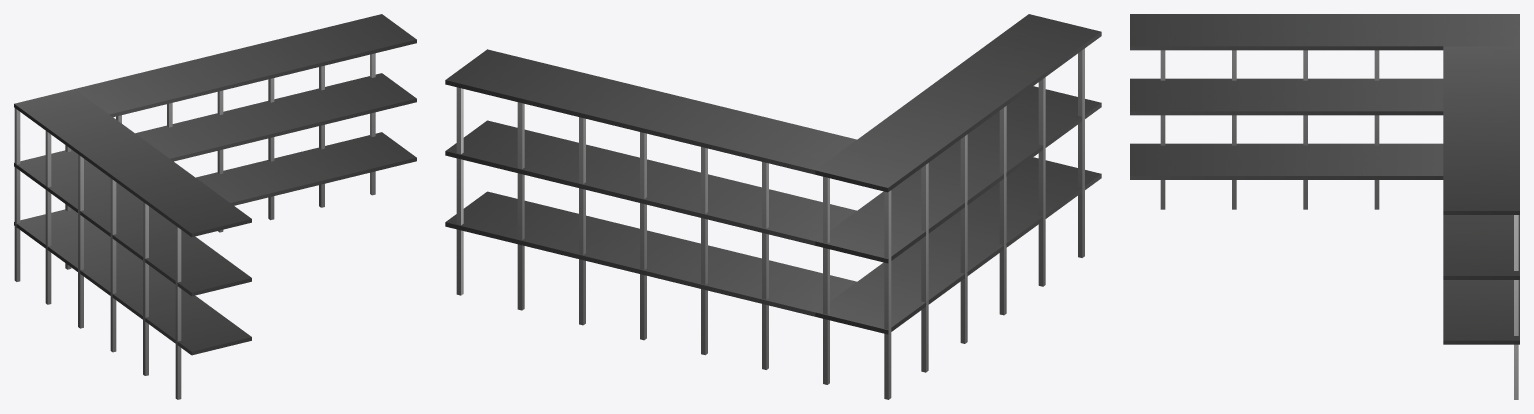
File: JanitorShelf.fbx
3 renders of one model, left to right at view 1: azimuth 30°, elevation 25°; view 2: azimuth 150°, elevation 25°; view 3: azimuth 270°, elevation 25°, orthographic. The views are drawn at different scales.
Parts seen in each view (by area): view 1: JanitorShelf4, JanitorShelf5, JanitorShelf3, JanitorShelf0, JanitorShelf2, JanitorShelf, JanitorShelf1; view 2: JanitorShelf, JanitorShelf4, JanitorShelf5, JanitorShelf1, JanitorShelf2, JanitorShelf3, JanitorShelf0; view 3: JanitorShelf5, JanitorShelf4, JanitorShelf3, JanitorShelf0, JanitorShelf2, JanitorShelf1, JanitorShelf.
Part boxes in pixels (x1,y1,x2,y2): JanitorShelf4: [75, 14, 416, 117]; JanitorShelf5: [14, 89, 251, 237]; JanitorShelf3: [14, 149, 251, 296]; JanitorShelf0: [14, 208, 251, 355]; JanitorShelf2: [135, 73, 416, 161]; JanitorShelf: [14, 53, 375, 399]; JanitorShelf1: [196, 132, 416, 205]; JanitorShelf: [456, 48, 1084, 399]; JanitorShelf4: [445, 49, 856, 174]; JanitorShelf5: [815, 14, 1101, 192]; JanitorShelf1: [445, 191, 856, 316]; JanitorShelf2: [445, 120, 856, 245]; JanitorShelf3: [815, 86, 1101, 263]; JanitorShelf0: [815, 157, 1101, 334]; JanitorShelf5: [1130, 14, 1519, 50]; JanitorShelf4: [1443, 46, 1519, 214]; JanitorShelf3: [1130, 78, 1443, 115]; JanitorShelf0: [1130, 143, 1443, 179]; JanitorShelf2: [1443, 215, 1519, 279]; JanitorShelf1: [1443, 280, 1519, 344]; JanitorShelf: [1160, 50, 1518, 399].
Size of the model in its own units: 841 by 385 by 703.
Materials: 1 (1 with a texture image).
